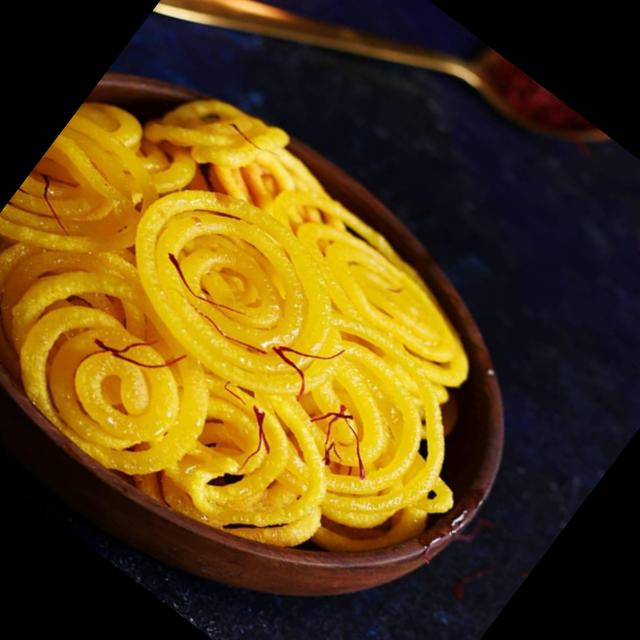jalebi: (0, 31, 595, 640)
